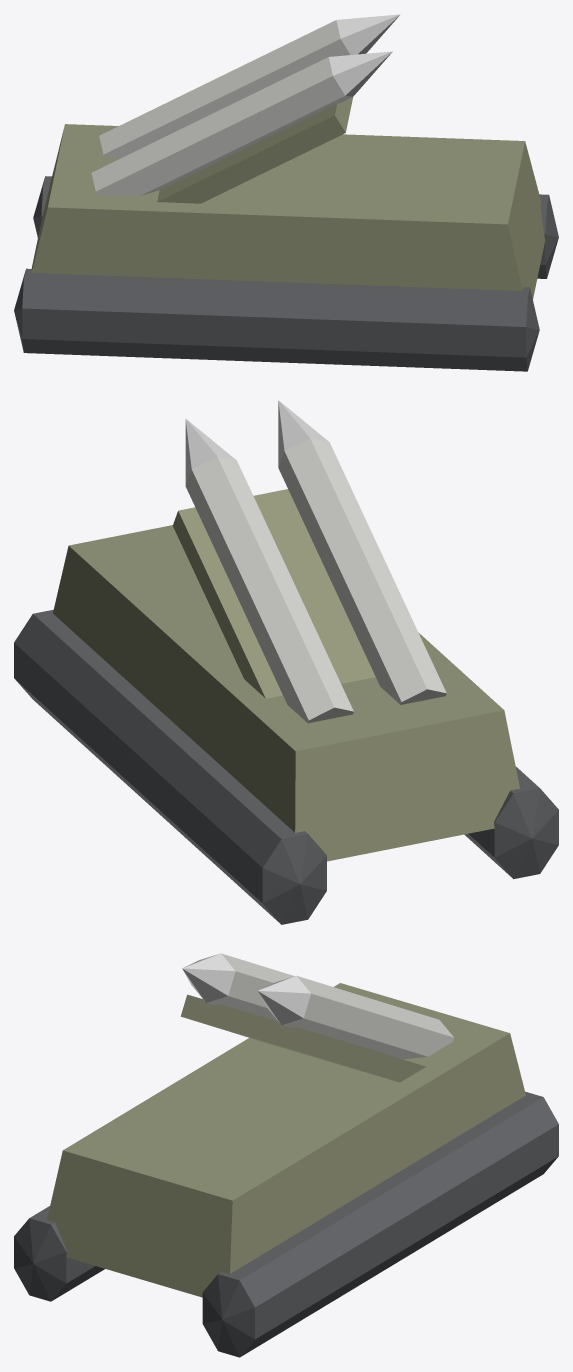
The model's file is mobile-sam.glb.
The picture shows the model from 3 angles, top to bottom: view 1: azimuth 30°, elevation 25°; view 2: azimuth 150°, elevation 25°; view 3: azimuth 270°, elevation 25°; orthographic projection. The views are drawn at different scales.
Visible parts, largest first — view 1: LOD0; view 2: LOD0; view 3: LOD0.
Part boxes in pixels (x1,y1,x2,y2): LOD0: (14,14,558,371); LOD0: (14,400,558,924); LOD0: (14,953,558,1357).
Size of what is drawn, in the model's own units: 1.05 by 0.5659 by 0.9462.
